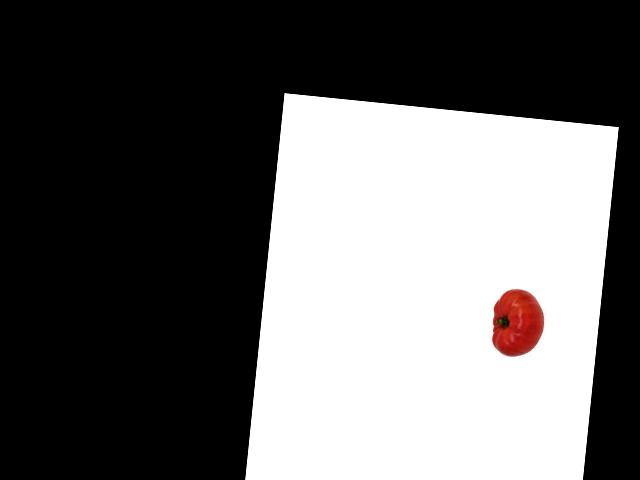tomato: (490, 286, 547, 358)
